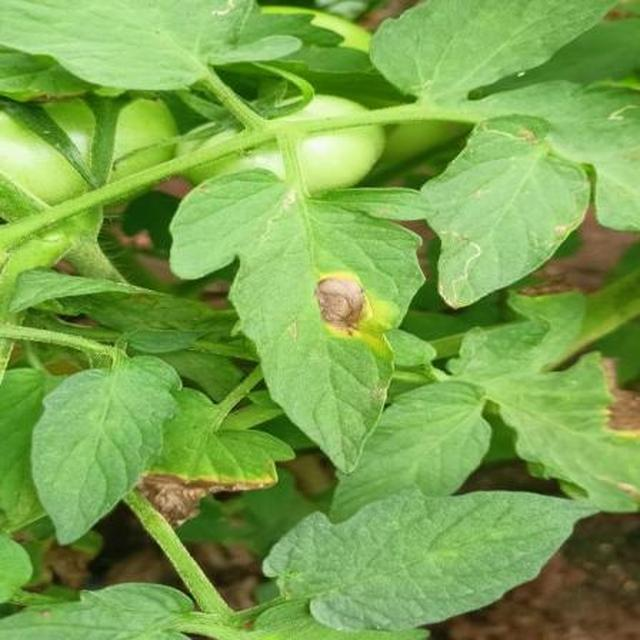Early Blight Leaf: (151, 210, 614, 640)
